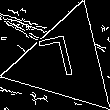L_S: (44, 34, 86, 90)
